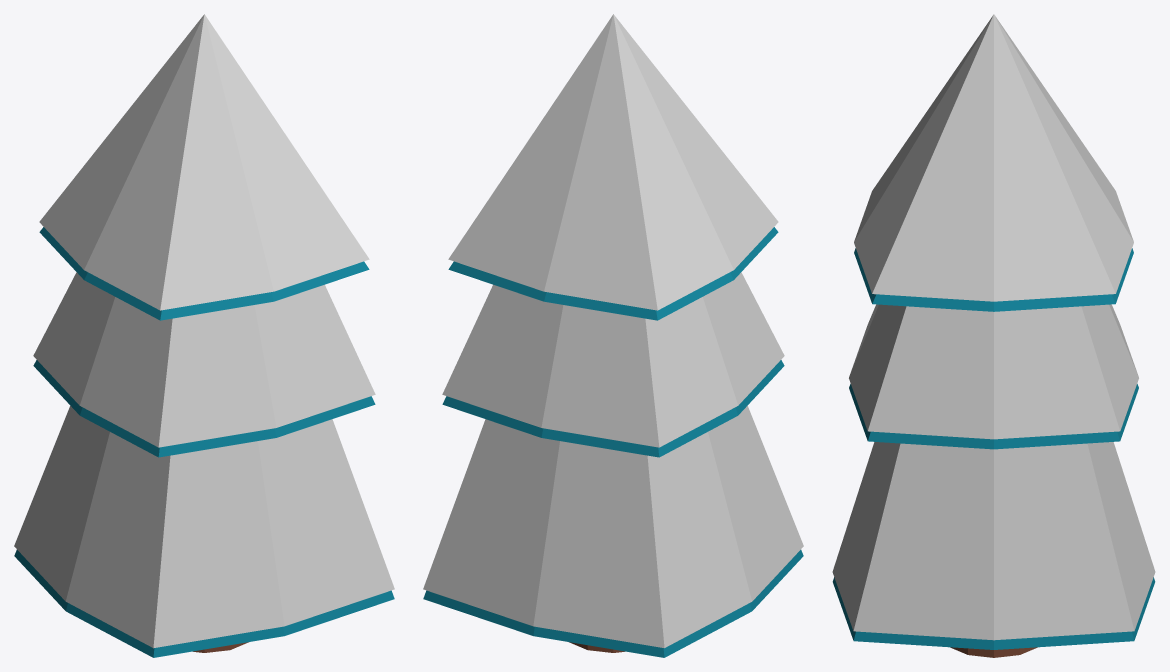
File: Tree_23_winter_blue_mat.fbx
3 renders of one model, left to right at view 1: azimuth 30°, elevation 25°; view 2: azimuth 150°, elevation 25°; view 3: azimuth 270°, elevation 25°, orthographic.
Parts seen in each view (by area): view 1: Tree_23_winter_blue_mat; view 2: Tree_23_winter_blue_mat; view 3: Tree_23_winter_blue_mat.
Boxes of the visible parts, box(x1,y1,x2,y2) form: Tree_23_winter_blue_mat: box(14, 14, 394, 657); Tree_23_winter_blue_mat: box(423, 14, 803, 657); Tree_23_winter_blue_mat: box(832, 14, 1155, 657).
Size of the model in its own units: 90.18 by 192 by 90.18.
